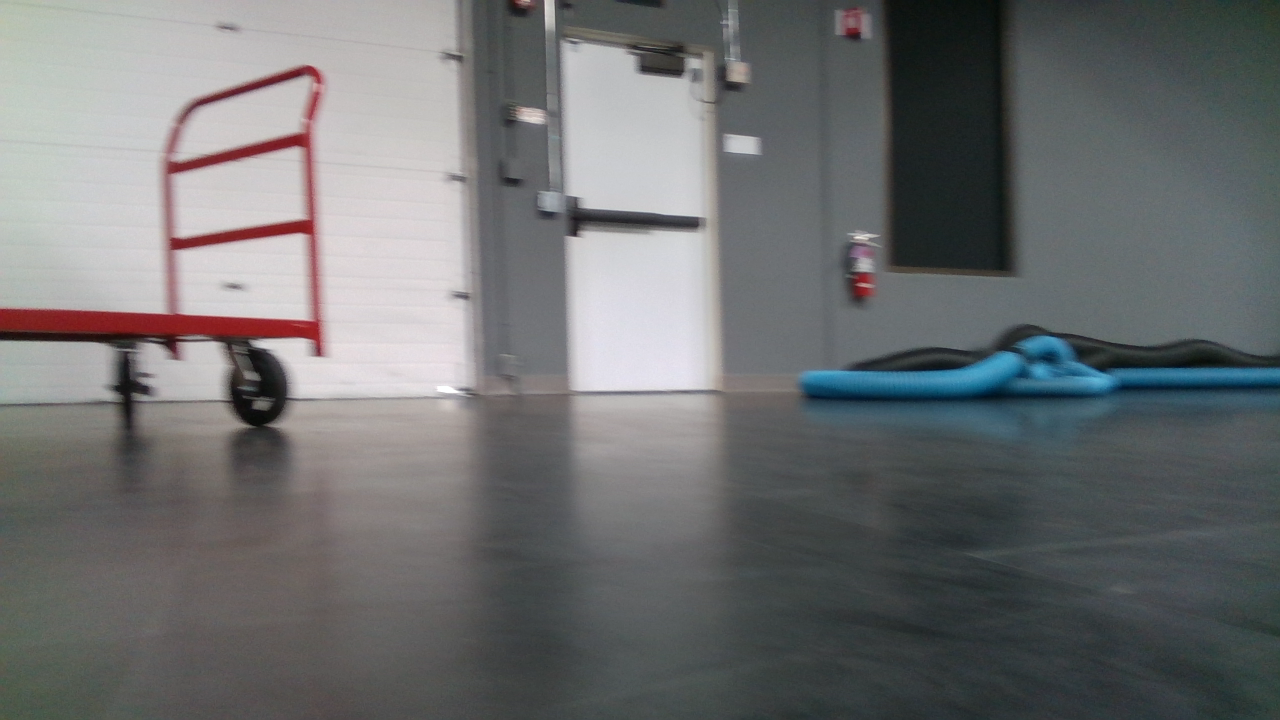Dolly: (0, 61, 329, 430)
Wheel: (225, 351, 287, 426), (111, 355, 139, 423)
